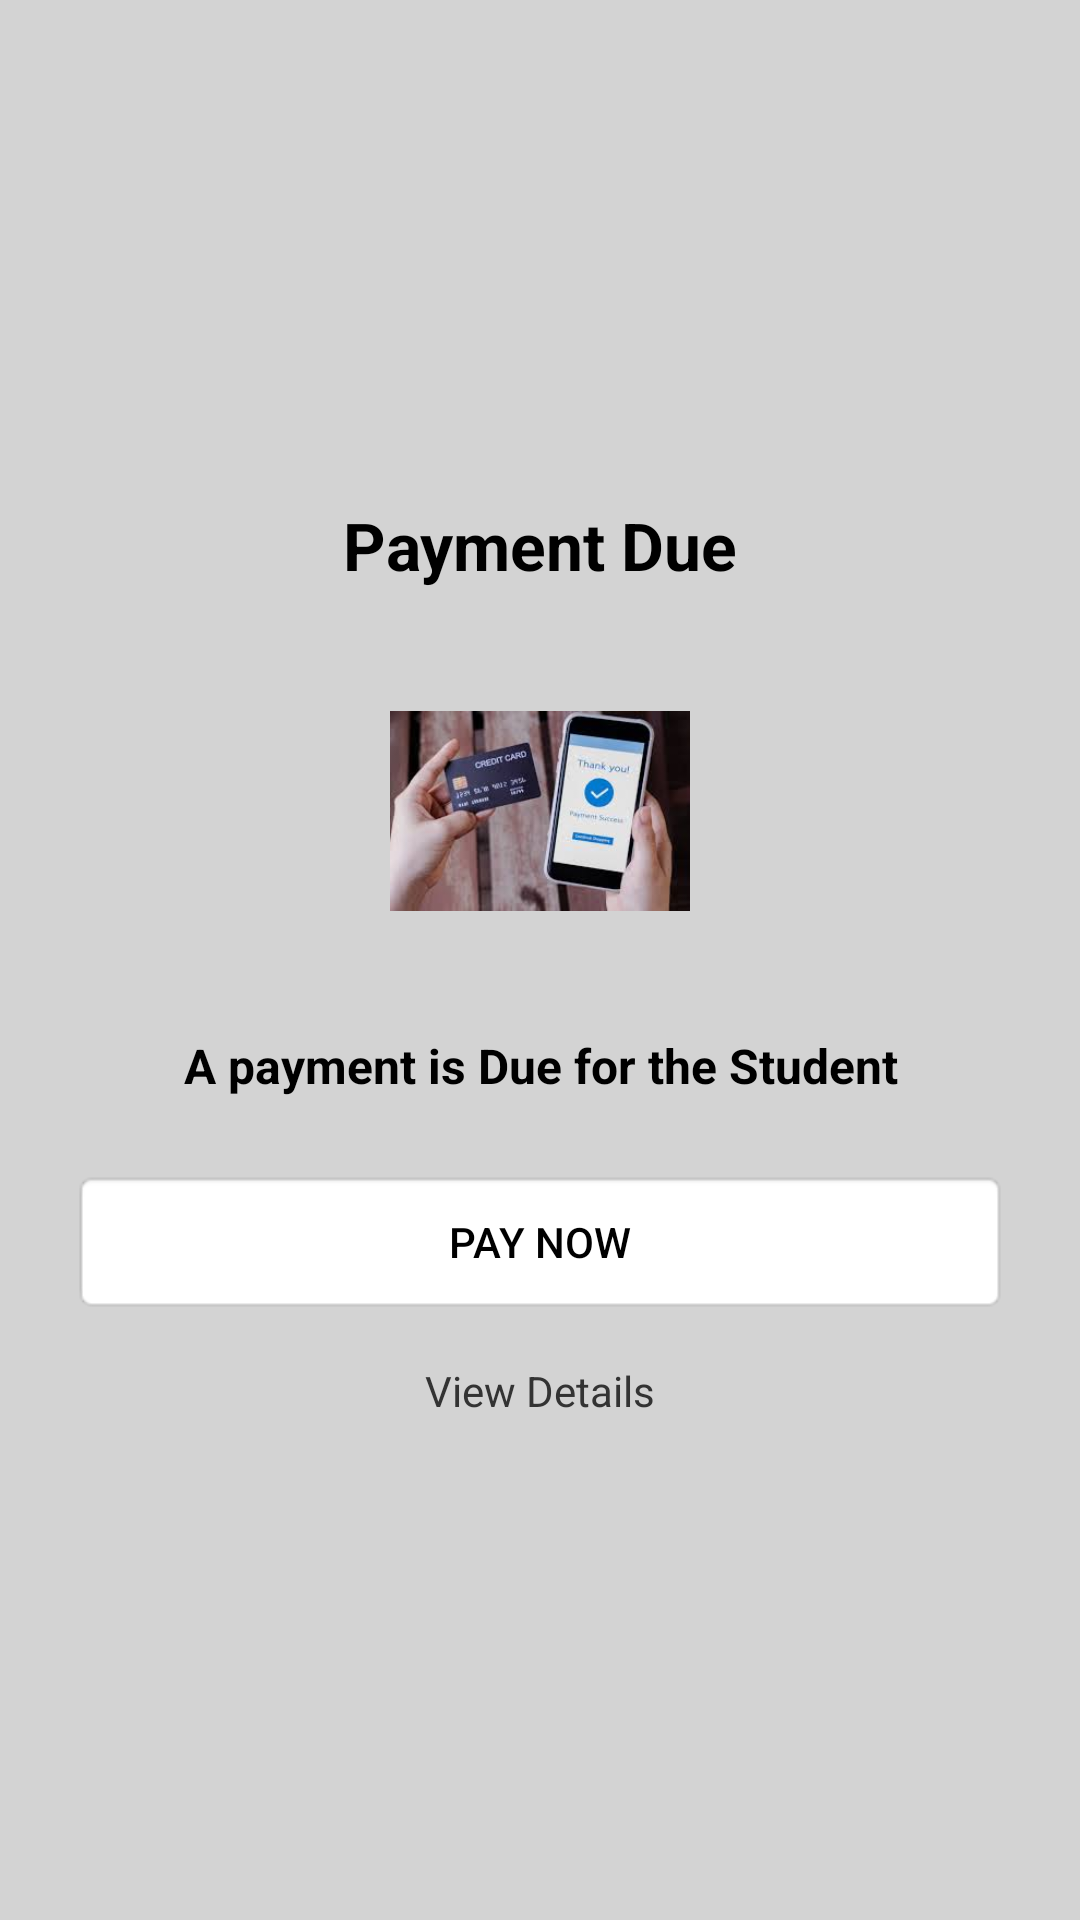

Screen size 1080x1920. Icon name, then its center in pixels as (x=x, y=y):
images: (x=540, y=811)
